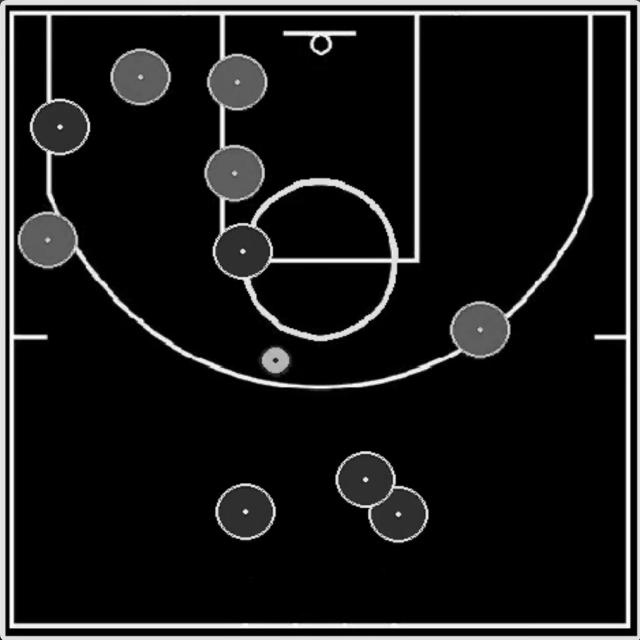Basketball: (258, 346, 291, 378)
Team_A: (335, 451, 395, 508), (213, 224, 273, 280), (369, 486, 429, 542), (31, 99, 90, 155), (216, 484, 275, 540)
Team_B: (17, 211, 78, 269), (450, 301, 509, 358), (110, 49, 170, 105), (205, 145, 265, 201), (208, 54, 267, 110)
